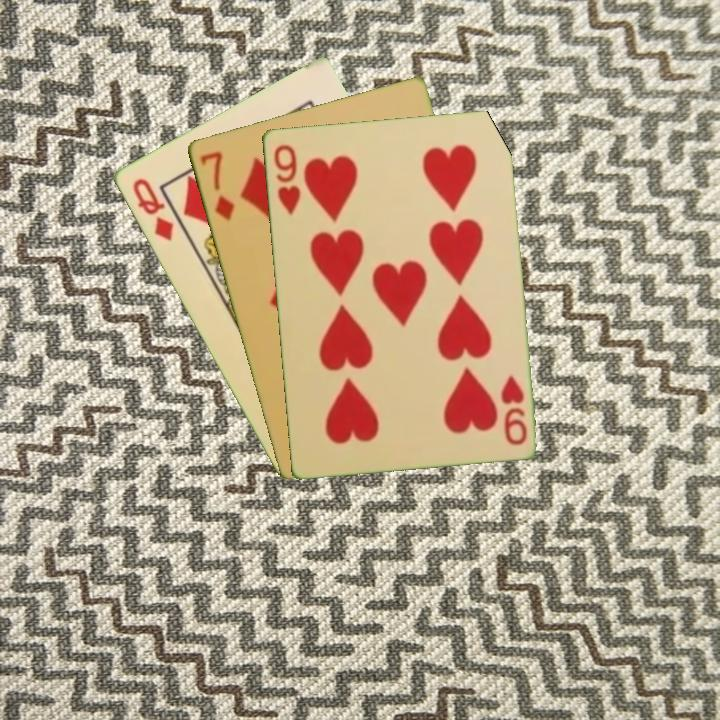7d: (196, 147, 237, 223)
9h: (269, 140, 303, 218), (497, 372, 530, 448)
Qd: (128, 174, 176, 244)
